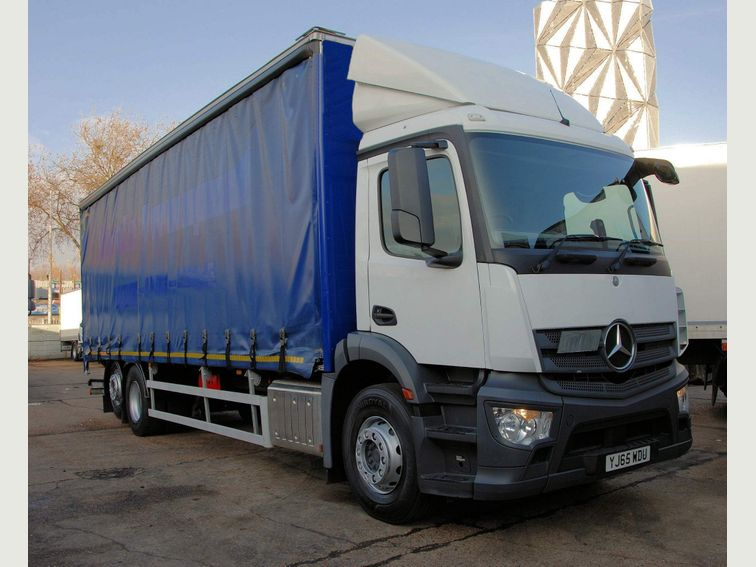Semi: (80, 26, 690, 518)
